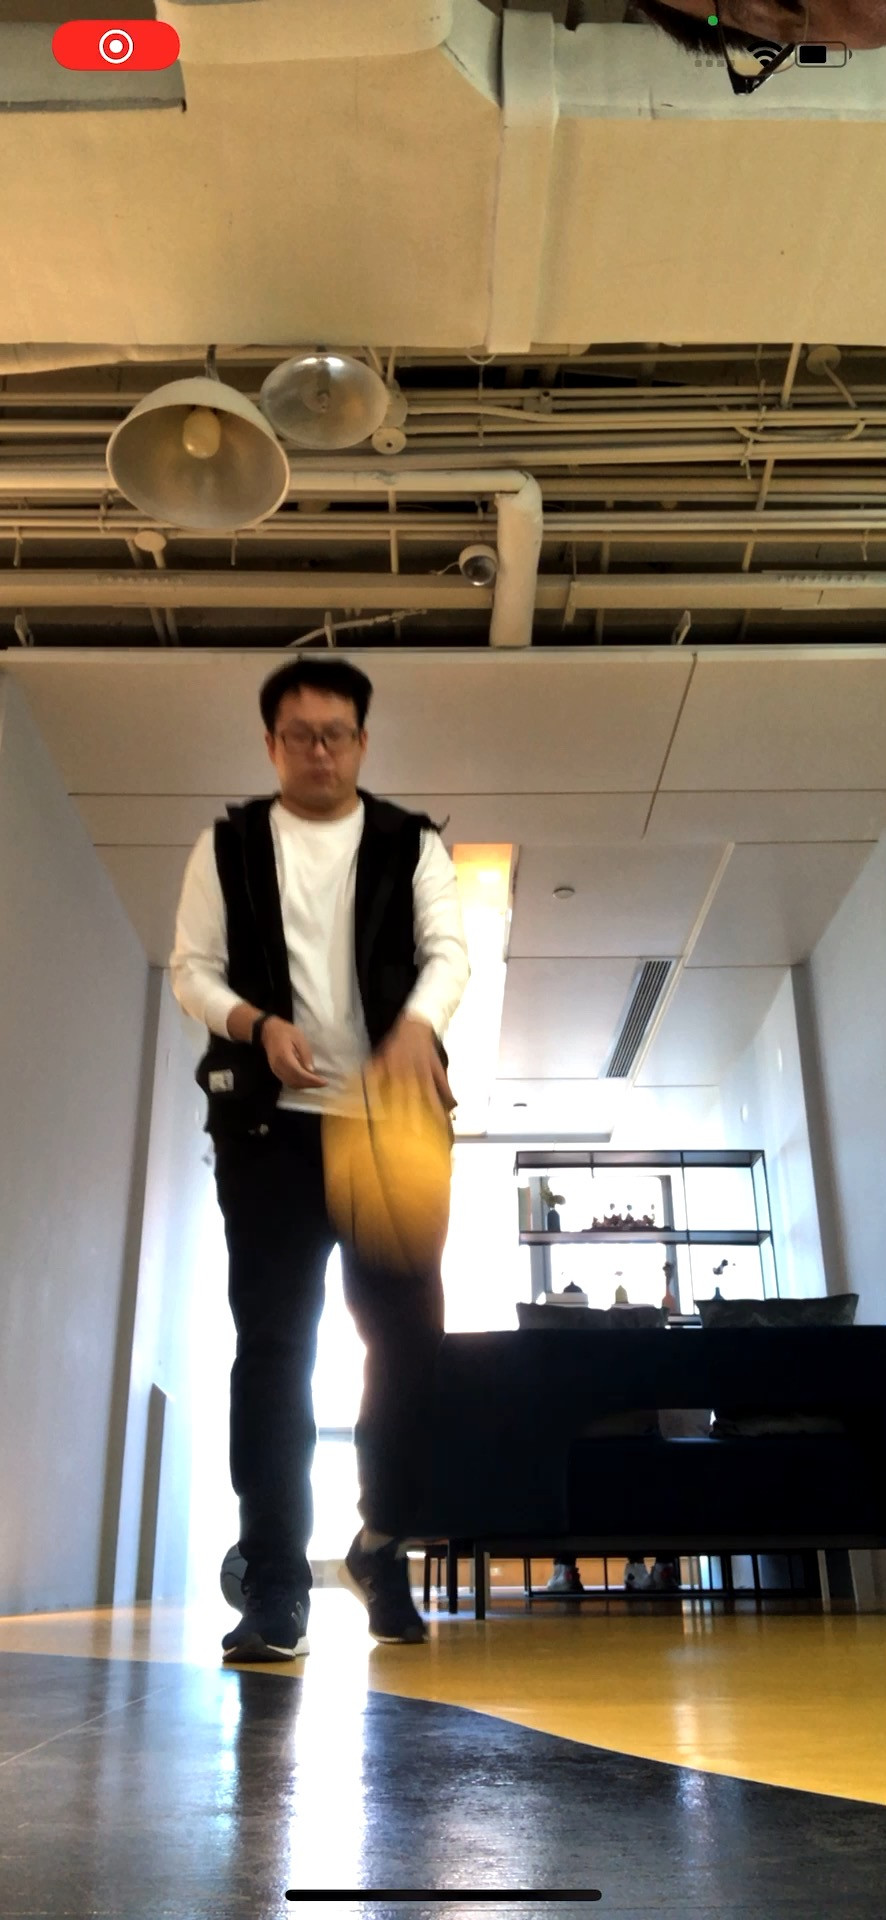ball: (321, 1108, 461, 1276)
